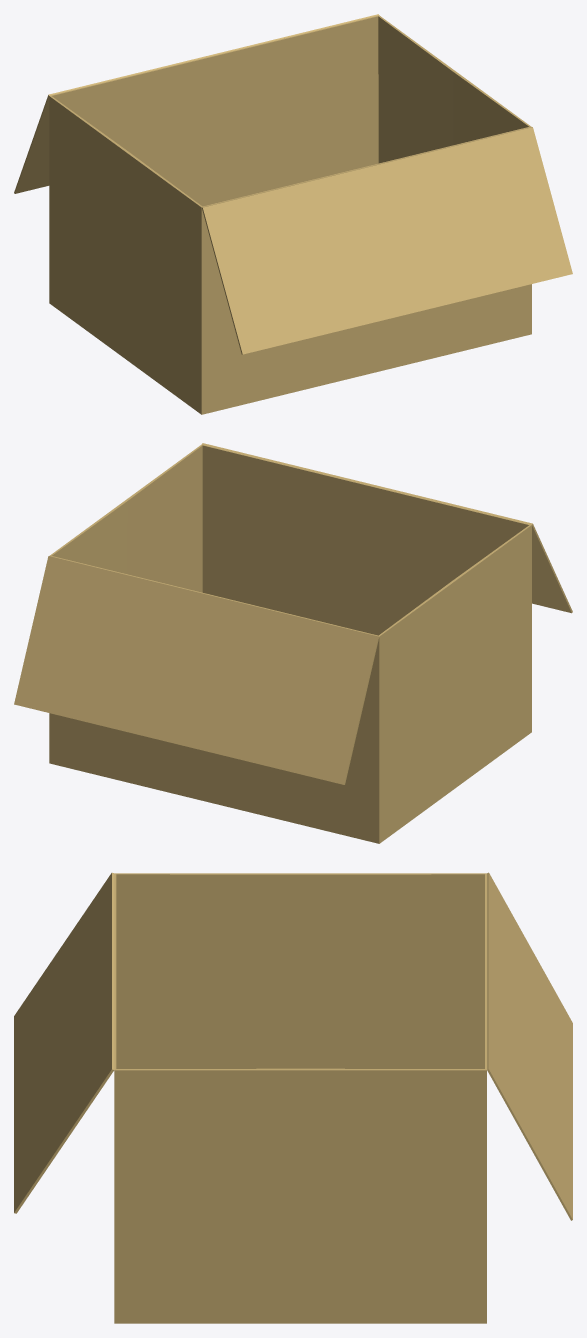
Rendered from crate box 1.fbx.
3 views of the same model, one above another, from view 1: azimuth 30°, elevation 25°; view 2: azimuth 150°, elevation 25°; view 3: azimuth 270°, elevation 25° (orthographic). The views are drawn at different scales.
Parts seen in each view (by area): view 1: box, box.001, box.003; view 2: box, box.003, box.001; view 3: box, box.001, box.003.
Part boxes in pixels (left/top/right/bottom): box: left=49, top=15, right=531, bottom=414; box.001: left=202, top=127, right=572, bottom=354; box.003: left=14, top=14, right=378, bottom=193; box: left=49, top=444, right=531, bottom=843; box.003: left=14, top=556, right=379, bottom=784; box.001: left=202, top=443, right=572, bottom=613; box: left=114, top=873, right=486, bottom=1323; box.001: left=14, top=872, right=114, bottom=1213; box.003: left=487, top=872, right=572, bottom=1220.
Bounding box in the file's own units: 100 × 60.2 × 120.
